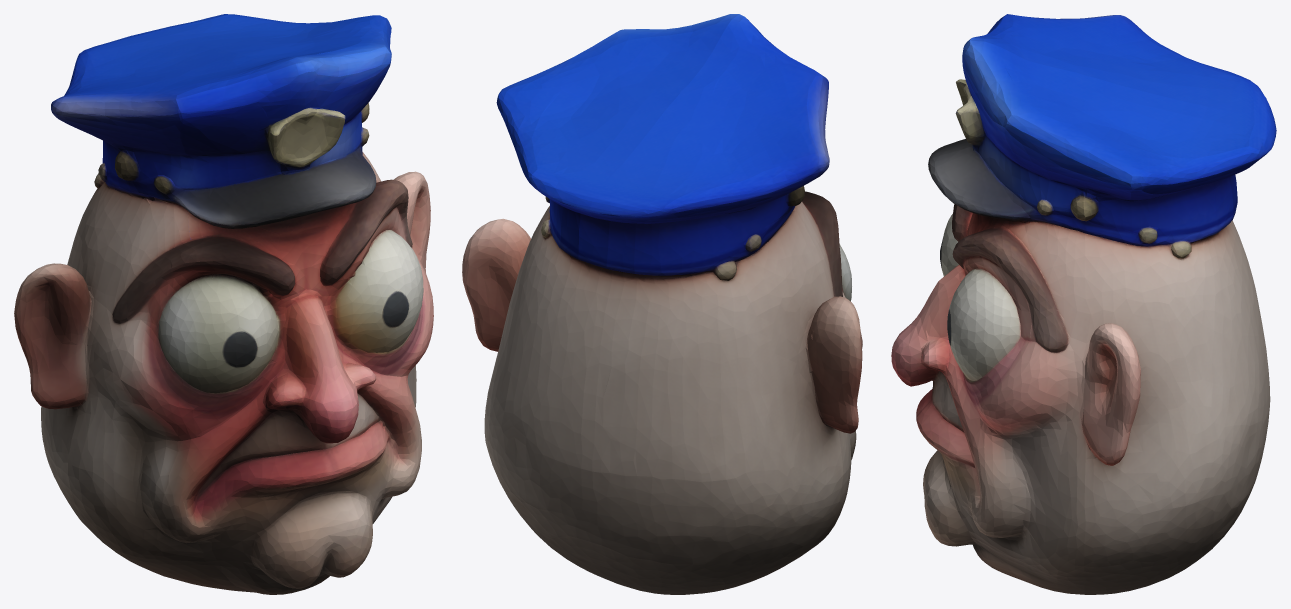
The model's file is policial-head-3d.glb.
3 renders of one model, left to right at view 1: azimuth 30°, elevation 25°; view 2: azimuth 150°, elevation 25°; view 3: azimuth 270°, elevation 25°, orthographic. The views are drawn at different scales.
Parts seen in each view (by area): view 1: world; view 2: world; view 3: world.
Part boxes in pixels (x1,y1,x2,y2): world: (14,14,433,594); world: (462,14,862,594); world: (891,14,1276,594).
Size of the model in its own units: 0.7921 by 1 by 0.6571.
1 material, 1 textured.
